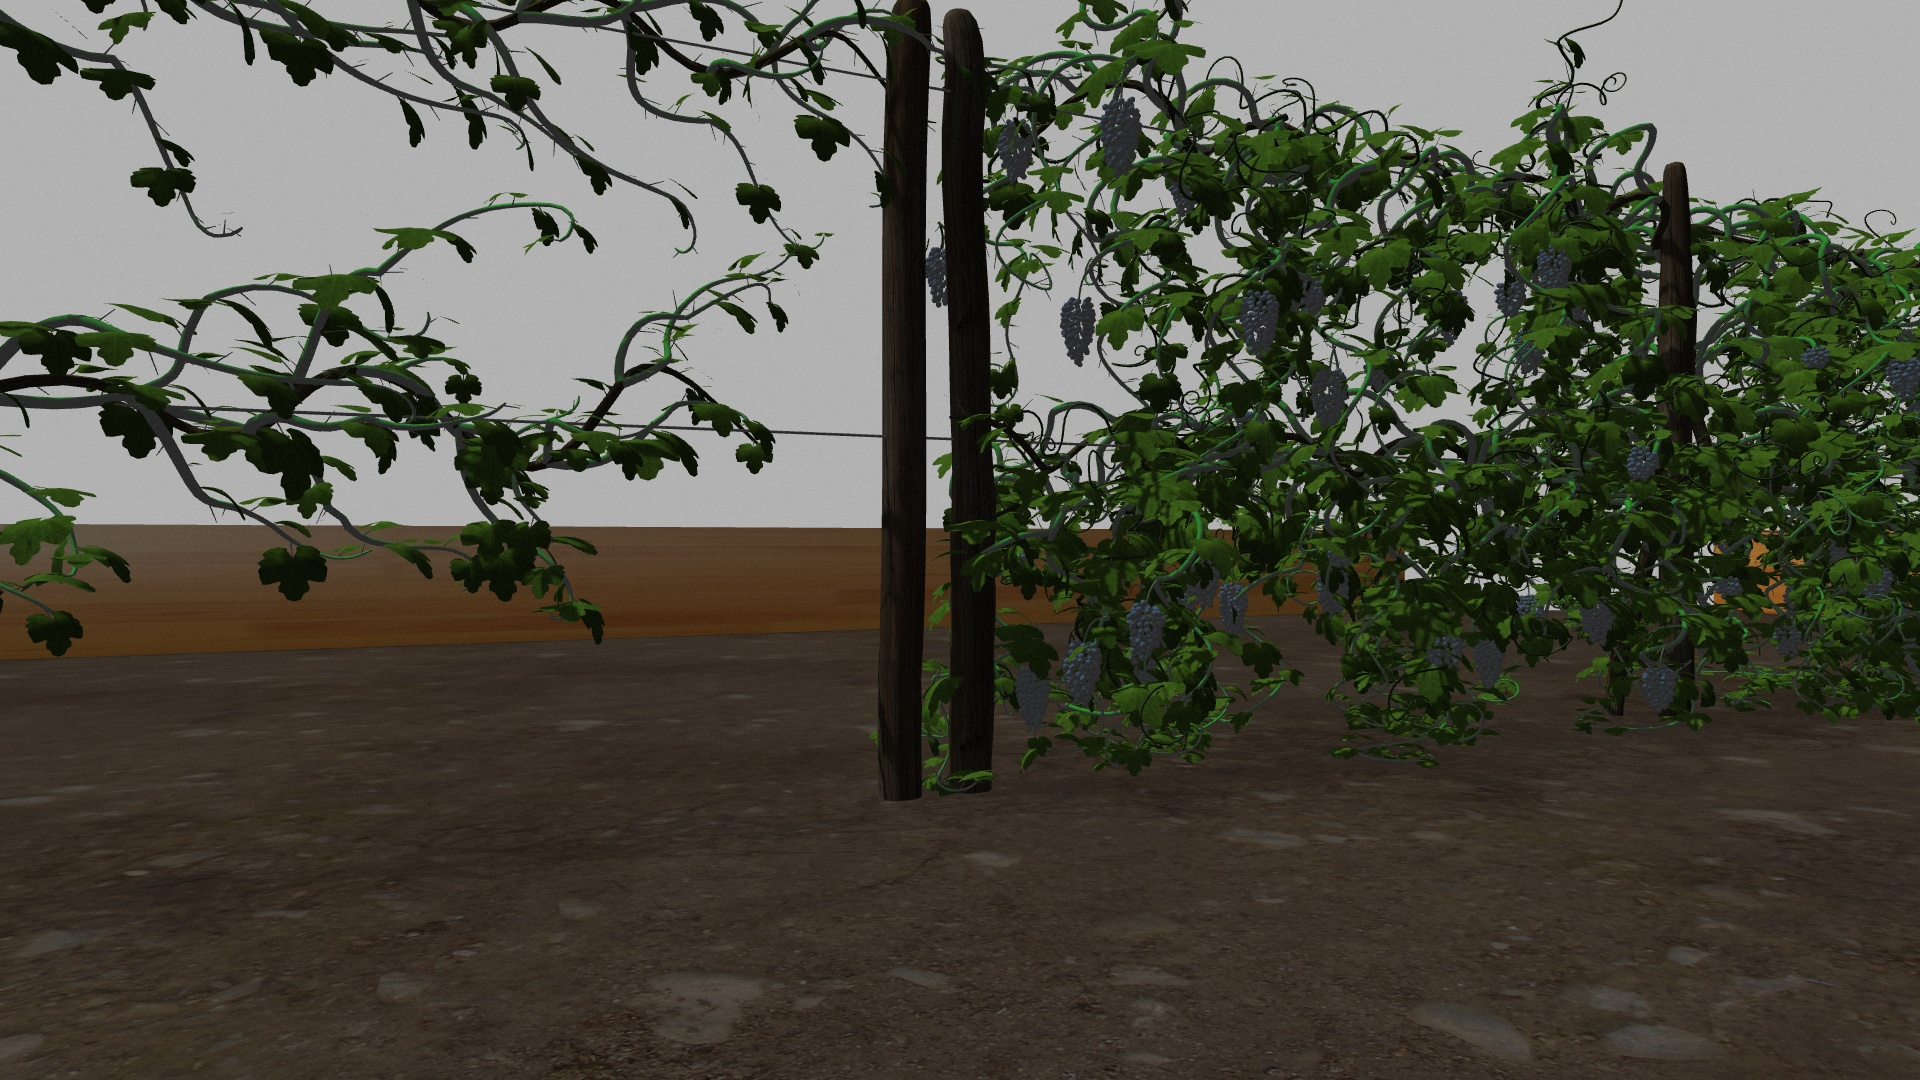grape: (1098, 95, 1142, 173), (1011, 661, 1052, 731), (1059, 295, 1098, 365), (1241, 290, 1278, 357), (1064, 644, 1101, 708), (996, 121, 1033, 185), (1315, 553, 1350, 617), (1312, 368, 1350, 427), (1127, 603, 1166, 659), (1639, 665, 1680, 716), (1472, 640, 1503, 694), (1578, 601, 1614, 646), (1218, 585, 1250, 636), (1535, 247, 1571, 290), (924, 248, 949, 307), (1428, 632, 1465, 670), (1493, 277, 1528, 315), (1623, 448, 1662, 483), (1886, 361, 1916, 404), (1774, 621, 1803, 665), (1514, 335, 1544, 375), (1801, 343, 1832, 371), (1717, 575, 1743, 597)
